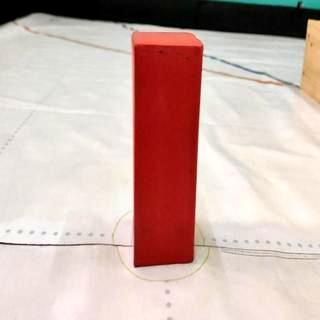redbox: (132, 30, 202, 267)
